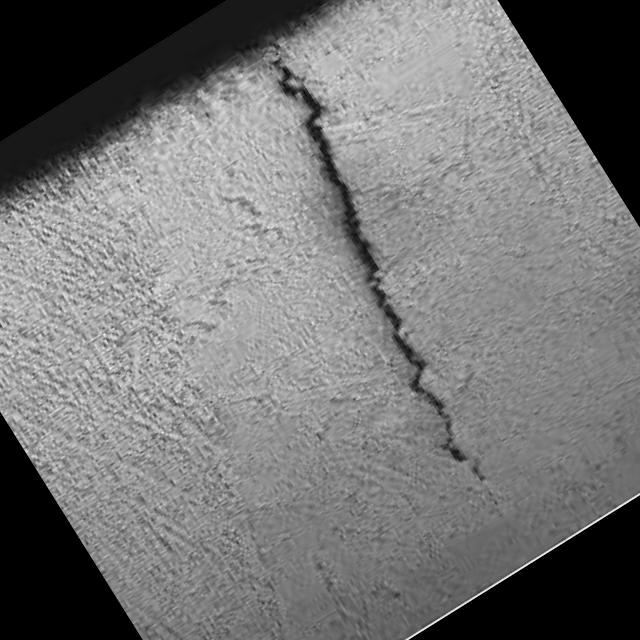defect: (265, 54, 480, 475)
